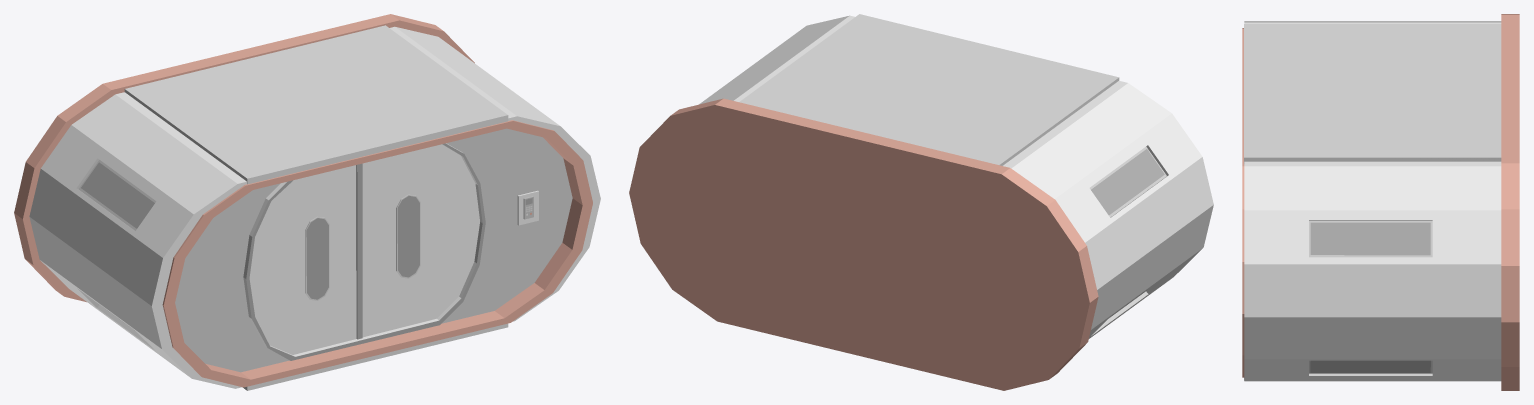
3 views of the same model, side by side, from view 1: azimuth 30°, elevation 25°; view 2: azimuth 150°, elevation 25°; view 3: azimuth 270°, elevation 25° (orthographic). The views are drawn at different scales.
Parts seen in each view (by area): view 1: Cube_1; view 2: Cube_1; view 3: Cube_1.
Boxes of the visible parts, x1,y1,x2,y2 form: Cube_1: (14,14,600,390); Cube_1: (629,14,1213,390); Cube_1: (1242,14,1519,390).
Size of the model in its own units: 975 by 438 by 482.
